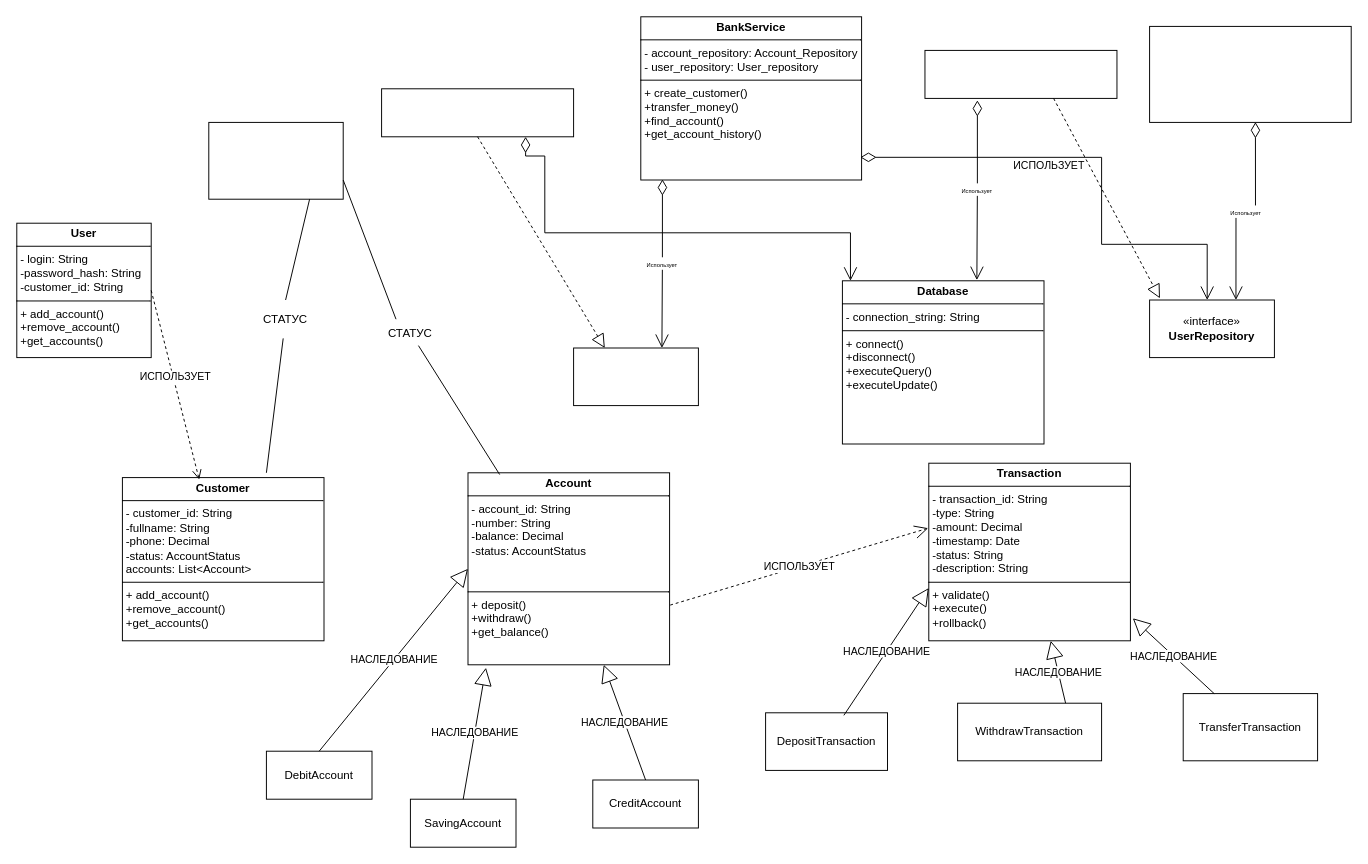
This 1368x864 diagram has some shape labels left out. Here are the shapes that lost their labels. From the top down, the centre of each, then its label:
point 1020,73: SQLUserRepository Database
point 1250,73: AuthService -atributes + register_user() +authenticate()
point 477,112: SQLAccountRepository Database
point 275,160: AccountStatus ACTIVE CLOSED FROZEN
point 635,376: «interface» AccountRepository
